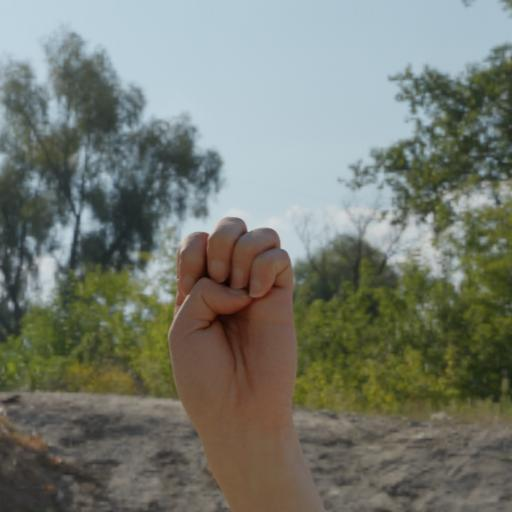E: (156, 210, 333, 509)
